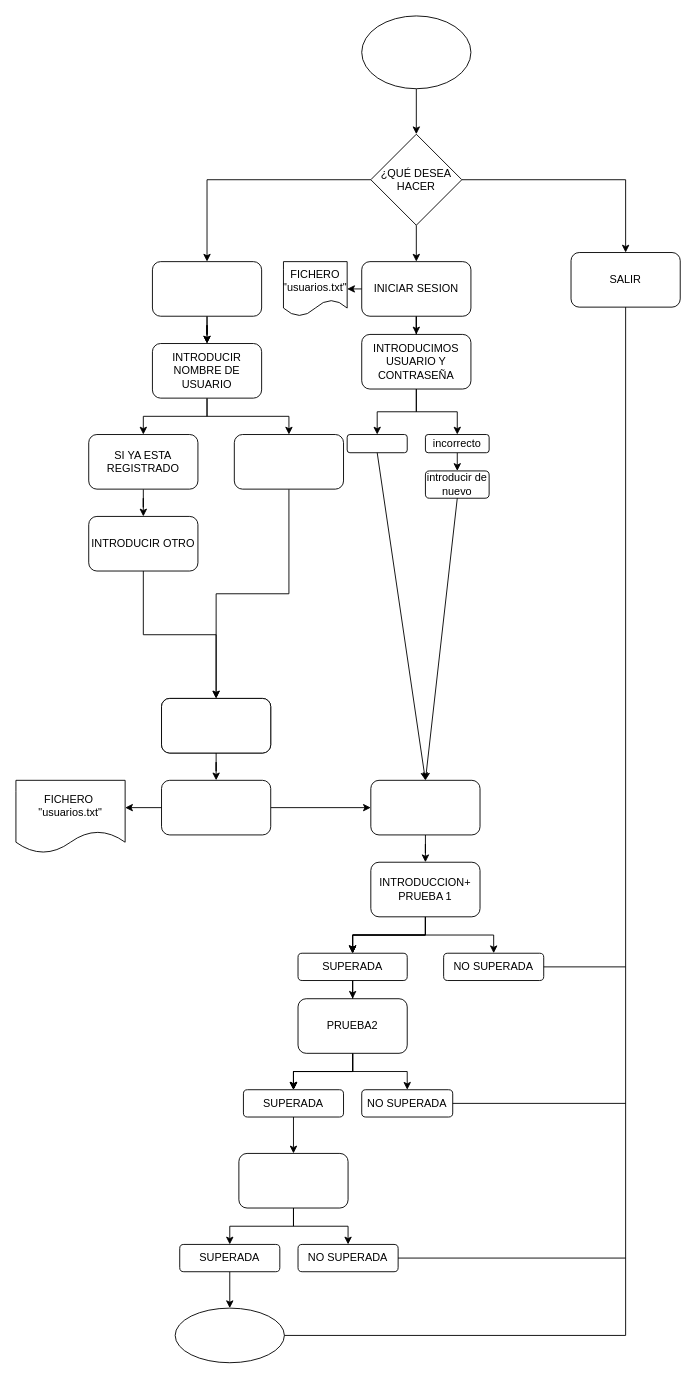
Image size: 696x1379. Some labels were removed from this diagram. The box of each missing label's shape, as (x1, y1, x2, y2) in pixels:
correcto: (346, 434, 407, 453)
FINAL: (174, 1307, 284, 1363)
INICIO JUEGO: (370, 779, 480, 835)
INTRODUCIR: NOMBRE APELLIDO CONTRASEÑA: (161, 698, 271, 753)
LATAM: (361, 15, 471, 89)
PRUEBA 3: (238, 1153, 348, 1208)
REGISTRARSE: (152, 261, 262, 316)
REGISTRO REALIZADO CON EXITO: (161, 779, 271, 835)
SI NO ESTA REGISTRADO: (233, 434, 344, 489)
